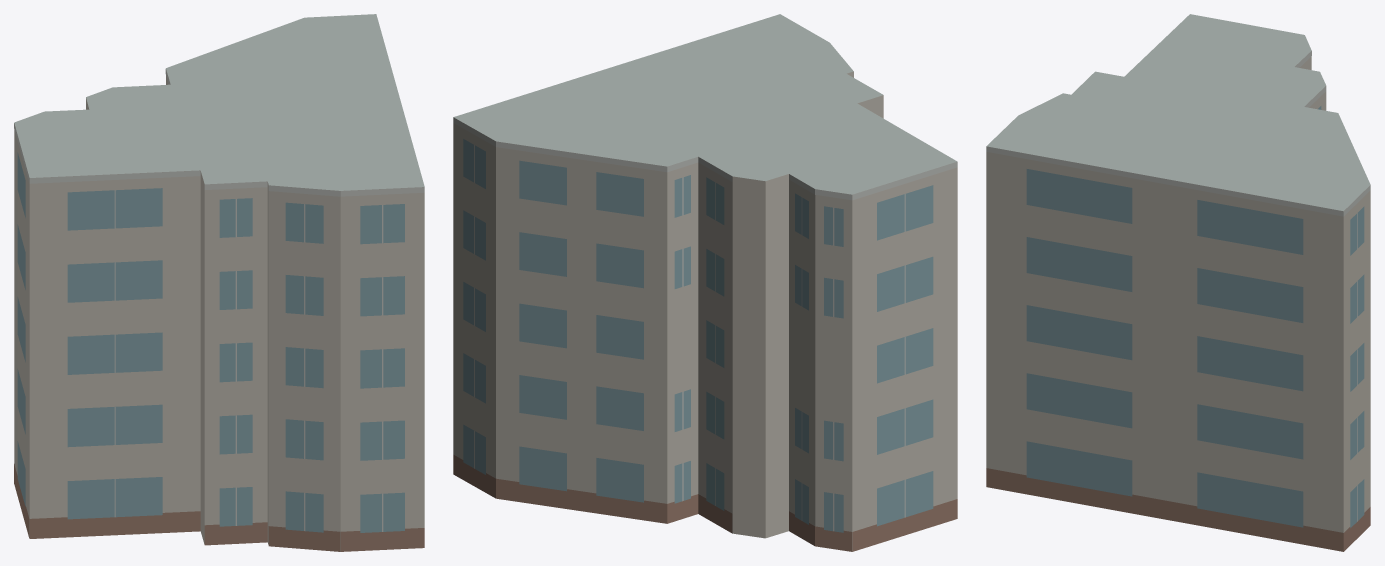
Rendered from survey-upis-32674245.glb.
The picture shows the model from 3 angles, left to right: view 1: azimuth 30°, elevation 25°; view 2: azimuth 150°, elevation 25°; view 3: azimuth 270°, elevation 25°; orthographic projection. The views are drawn at different scales.
Visible parts, largest first — view 1: survey-upis-32674245.tmp; view 2: survey-upis-32674245.tmp; view 3: survey-upis-32674245.tmp.
Boxes of the visible parts, x1,y1,x2,y2 form: survey-upis-32674245.tmp: (14, 14, 424, 551); survey-upis-32674245.tmp: (453, 14, 957, 551); survey-upis-32674245.tmp: (986, 14, 1370, 551).
Bounding box in the file's own units: 18.94 × 15.25 × 15.61.
